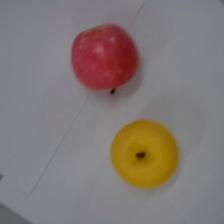red: (72, 23, 140, 95)
yellow: (112, 120, 179, 191)
